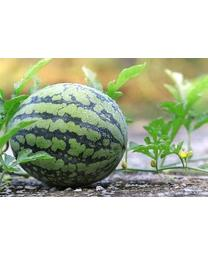watermelon: (11, 82, 128, 189)
